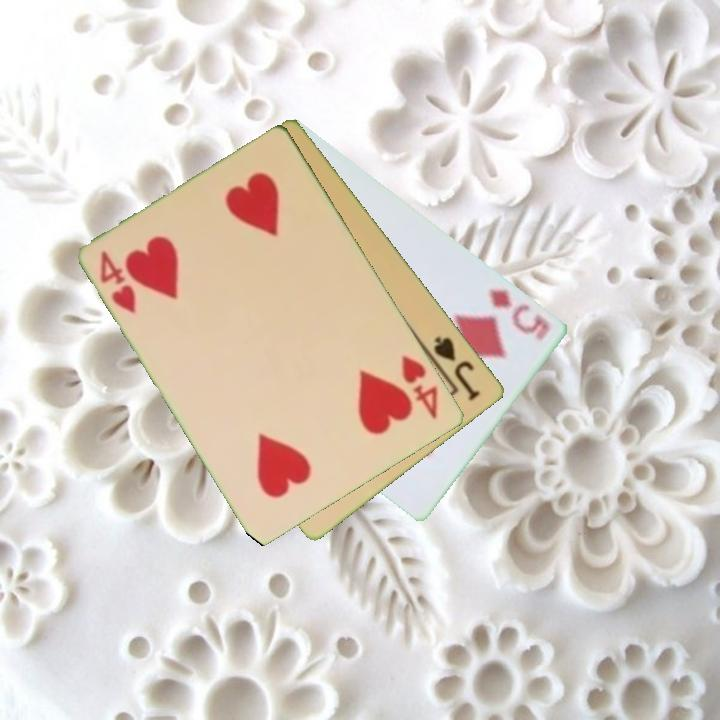4h: (398, 352, 442, 423), (97, 247, 140, 316)
5d: (486, 284, 554, 344)
Js: (430, 332, 484, 404)
